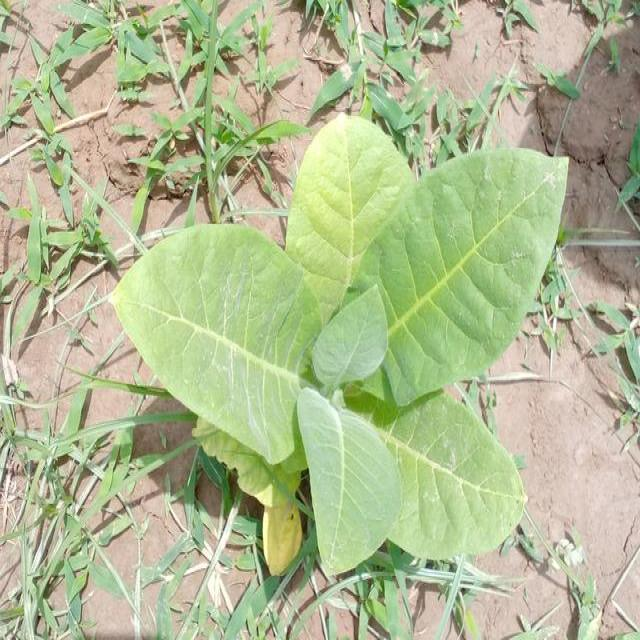crop: (106, 108, 570, 589)
